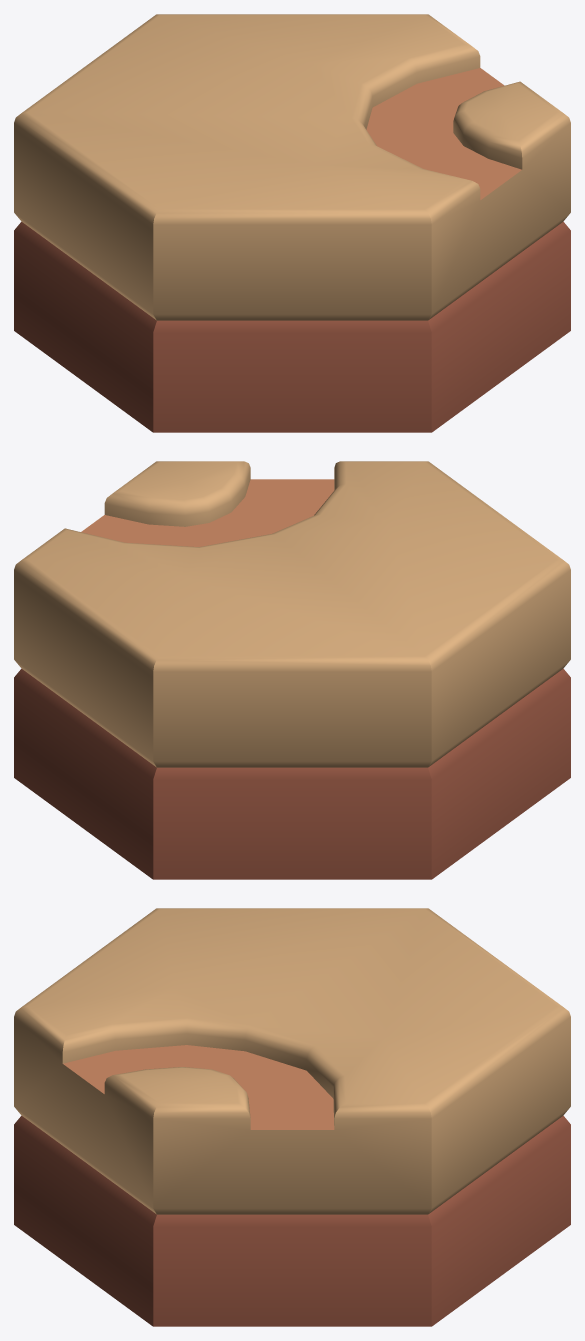
File: hex_sand_roadC_detail.glb
3 views of the same model, one above another, from view 1: azimuth 30°, elevation 25°; view 2: azimuth 150°, elevation 25°; view 3: azimuth 270°, elevation 25° (orthographic).
Visible parts, largest first — view 1: hex_sand_roadC_detail; view 2: hex_sand_roadC_detail; view 3: hex_sand_roadC_detail.
Part boxes in pixels (bbox=[...]): hex_sand_roadC_detail: bbox=[14, 14, 570, 432]; hex_sand_roadC_detail: bbox=[14, 461, 570, 879]; hex_sand_roadC_detail: bbox=[14, 908, 570, 1326].
Bounding box in the file's own units: 2 × 1 × 2.31.
